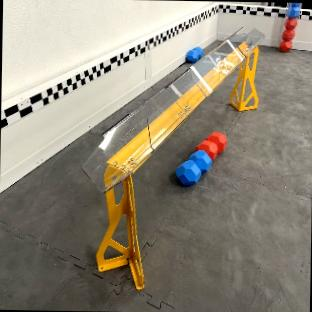Goal: (230, 31, 261, 109)
V5_BLUE: (176, 150, 211, 183), (185, 47, 202, 61), (287, 2, 300, 18)
V5_RED: (197, 132, 226, 159), (280, 15, 296, 51)
pieces: (175, 131, 226, 184)
